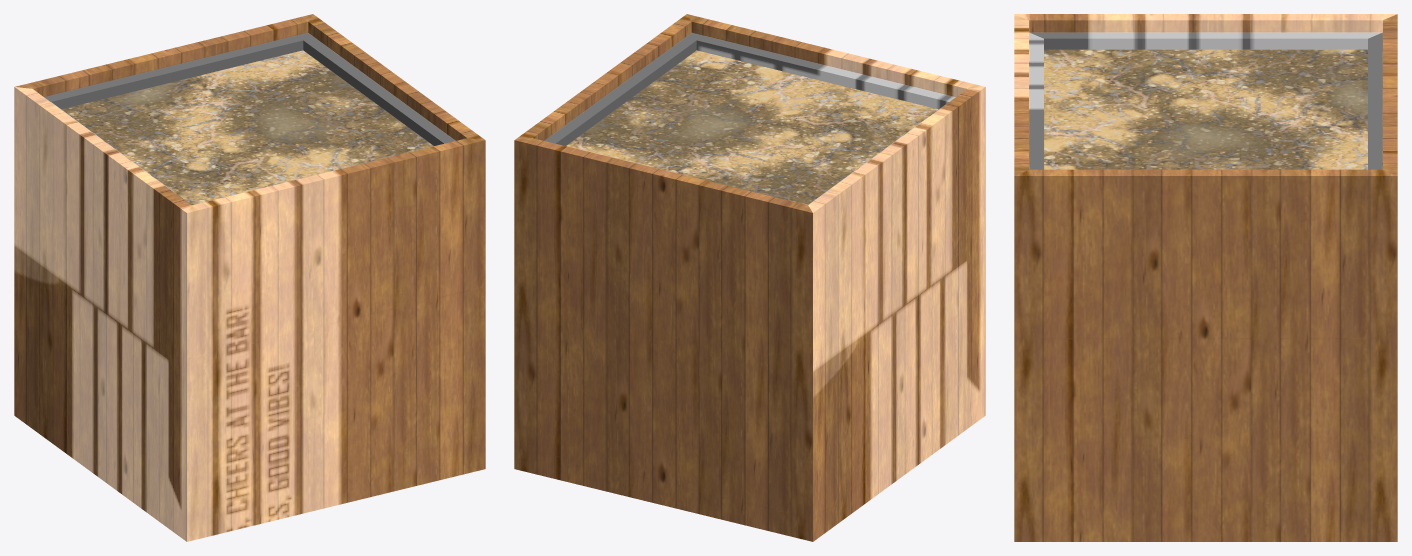
Rendered from SM_SM_FlowerPot7_A.fbx.
The picture shows the model from 3 angles, left to right: view 1: azimuth 30°, elevation 25°; view 2: azimuth 150°, elevation 25°; view 3: azimuth 270°, elevation 25°; orthographic projection. The views are drawn at different scales.
Parts seen in each view (by area): view 1: SM_SM_FlowerPot7_A; view 2: SM_SM_FlowerPot7_A; view 3: SM_SM_FlowerPot7_A.
Part boxes in pixels (left/top/right/bottom): SM_SM_FlowerPot7_A: left=14, top=14, right=485, bottom=541; SM_SM_FlowerPot7_A: left=514, top=14, right=985, bottom=541; SM_SM_FlowerPot7_A: left=1014, top=14, right=1397, bottom=541.
Bounding box in the file's own units: 49.18 × 49.18 × 51.77.
1 material, 1 textured.
